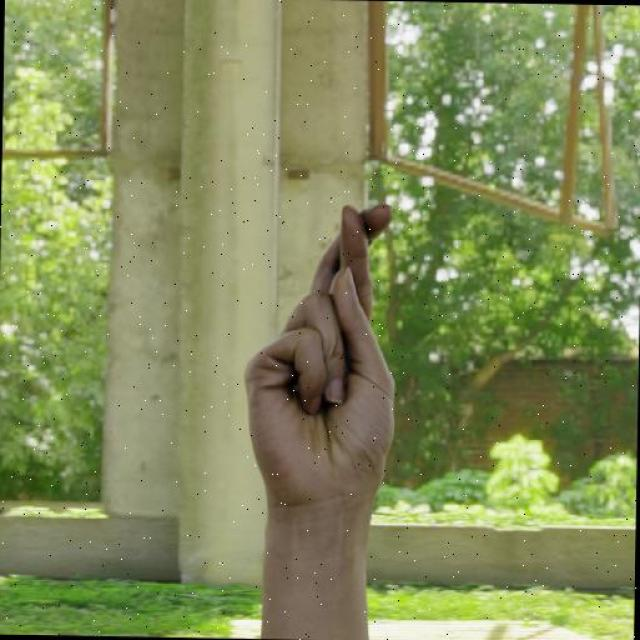R: (240, 198, 402, 508)
